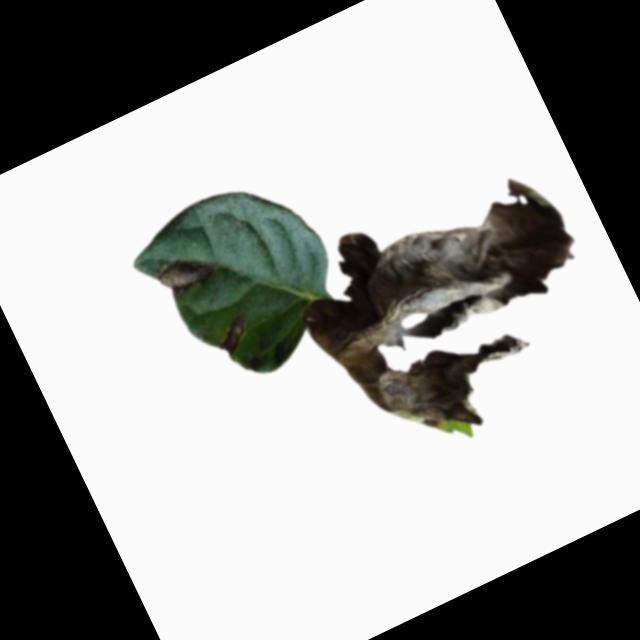Early_blight: (275, 149, 624, 475), (146, 243, 219, 302), (209, 312, 256, 359)
